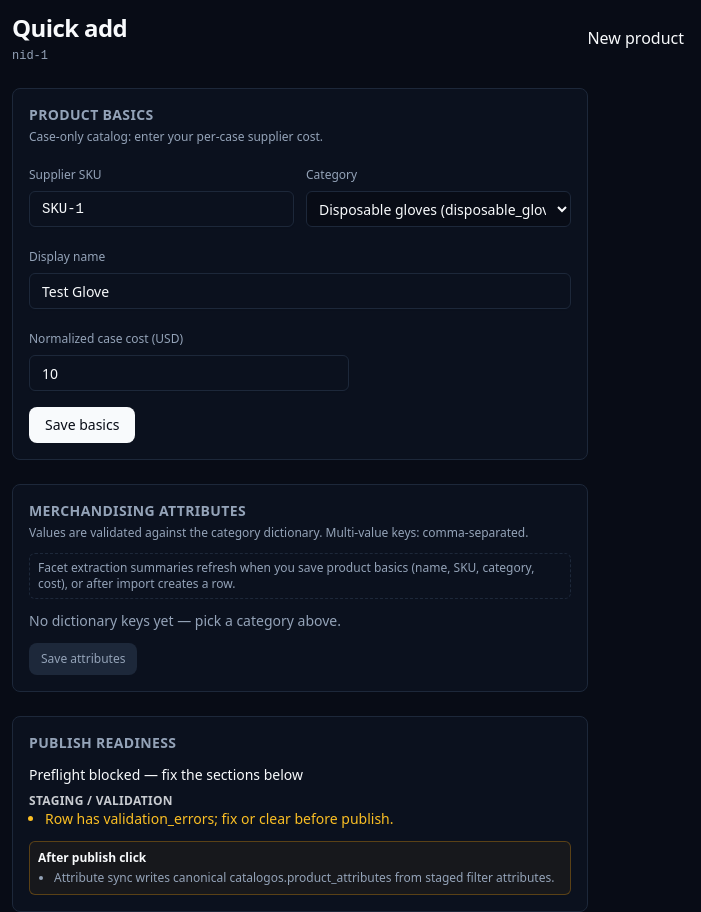
Test: QuickAddPageClient › after basics save, refetches staging so Tier 1 panel reflects server readiness
The image size is (701, 912).
Expected: the text "Publish readiness" is shown, [29,733,176,752]
Expected: the text "Preflight blocked — fix the sections below" is shown, [29,765,303,784]
Click the button "Save basics" at [82, 425], box [29,407,135,443]
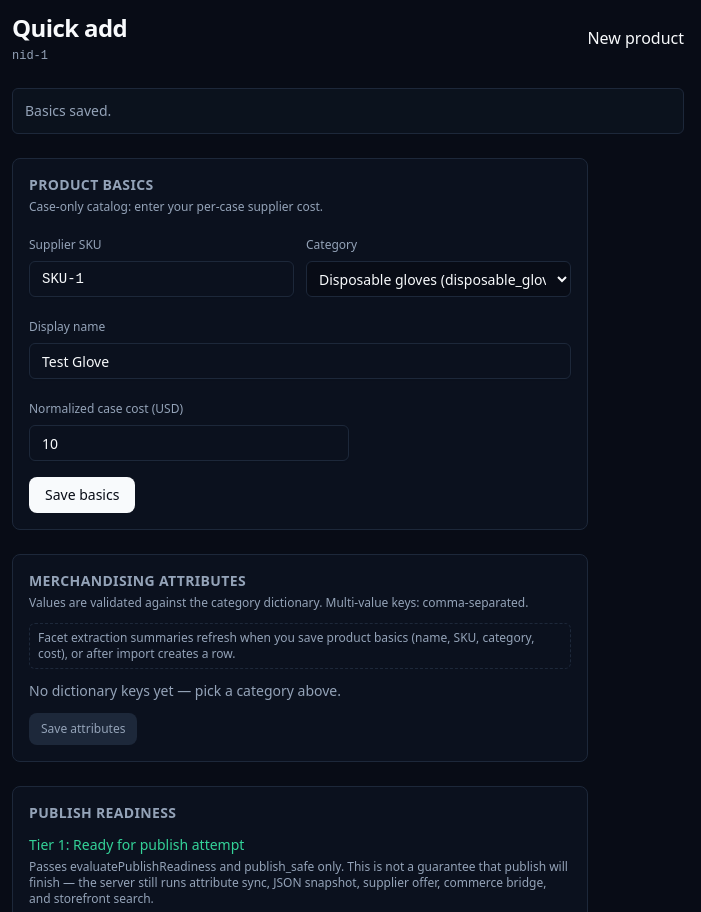
Expected: the text "Tier 1: Ready for publish attempt" is shown, [29,835,244,854]
